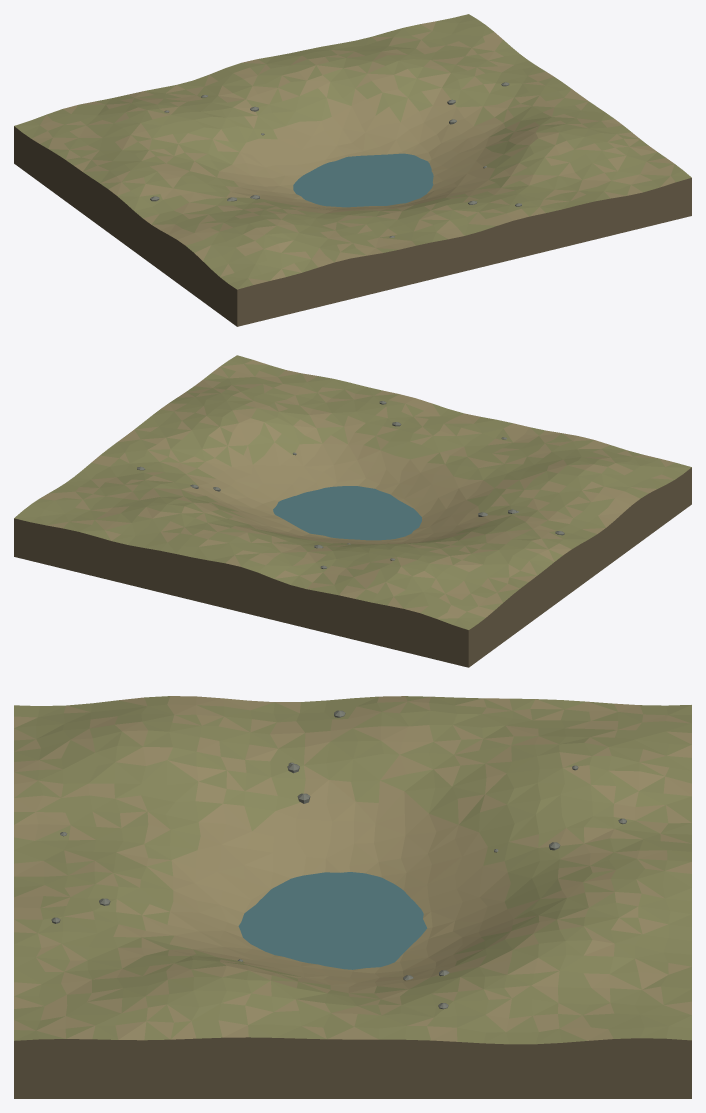
3 renders of one model, top to bottom at view 1: azimuth 30°, elevation 25°; view 2: azimuth 150°, elevation 25°; view 3: azimuth 270°, elevation 25°, orthographic. The views are drawn at different scales.
Visible parts, largest first — view 1: continuous_hummocky_glacial_till_closed_depression, shallow_partial_pond; view 2: continuous_hummocky_glacial_till_closed_depression, shallow_partial_pond; view 3: continuous_hummocky_glacial_till_closed_depression, shallow_partial_pond, irregular_embedded_till_stones.
Boxes of the visible parts, <box> form: continuous_hummocky_glacial_till_closed_depression: <box>14,14,691,326</box>; shallow_partial_pond: <box>293,153,433,207</box>; continuous_hummocky_glacial_till_closed_depression: <box>14,355,691,667</box>; shallow_partial_pond: <box>273,486,421,540</box>; continuous_hummocky_glacial_till_closed_depression: <box>14,696,691,1098</box>; shallow_partial_pond: <box>238,872,427,969</box>; irregular_embedded_till_stones: <box>51,710,626,1009</box>.
Size of the model in its own units: 80 by 8.95 by 68.
